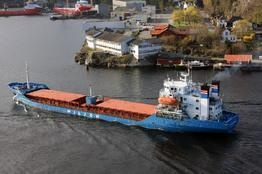Cargoship: (10, 60, 239, 134)
